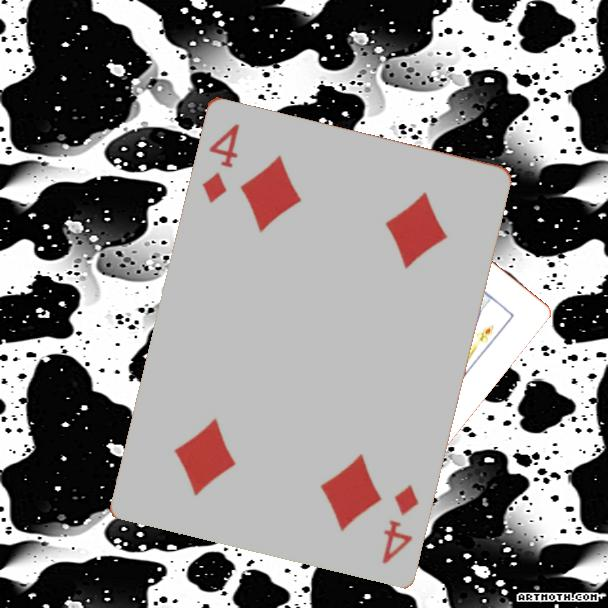d04: (198, 119, 242, 206), (378, 480, 422, 566)
